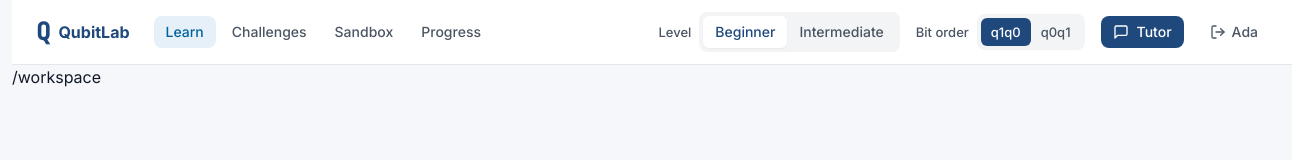
Test: B09/B25 every navbar control does something › routes Learn, Challenges and Progress to a real destination
This screenshot has width=1292, height=160.
Click the button "Learn": (185, 32) [154,16,216,48]
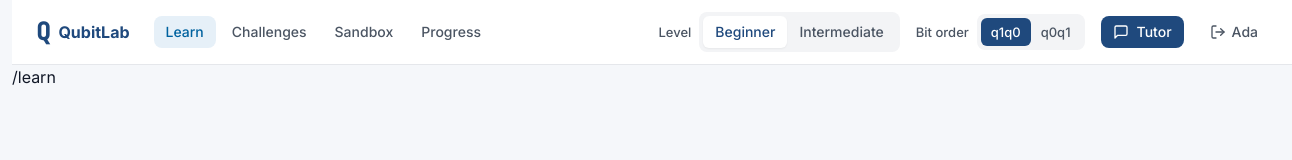
Expected: the text with test id "where" reads "/learn", [12,67,56,87]
Click the button "Progress": (451, 32) [409,16,493,48]
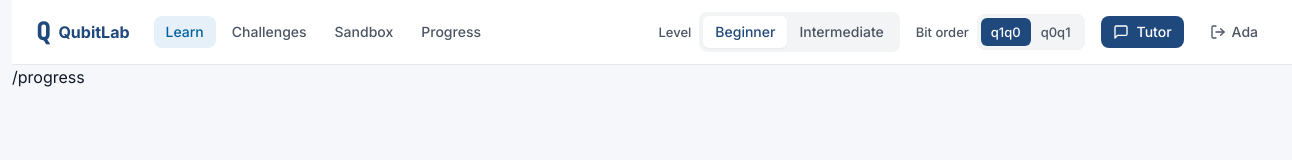
Expected: the text with test id "where" reads "/progress", [12,67,85,87]
